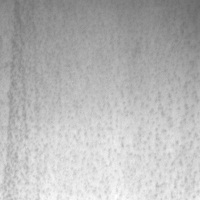pitted_surface: (26, 57, 196, 200), (6, 1, 34, 199)
